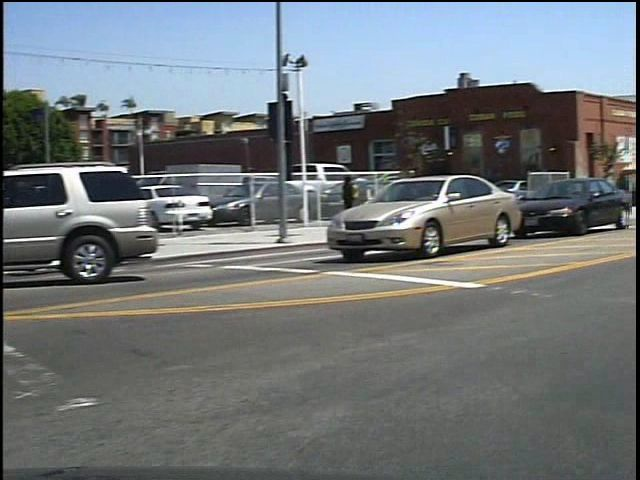person: (347, 170, 373, 230)
